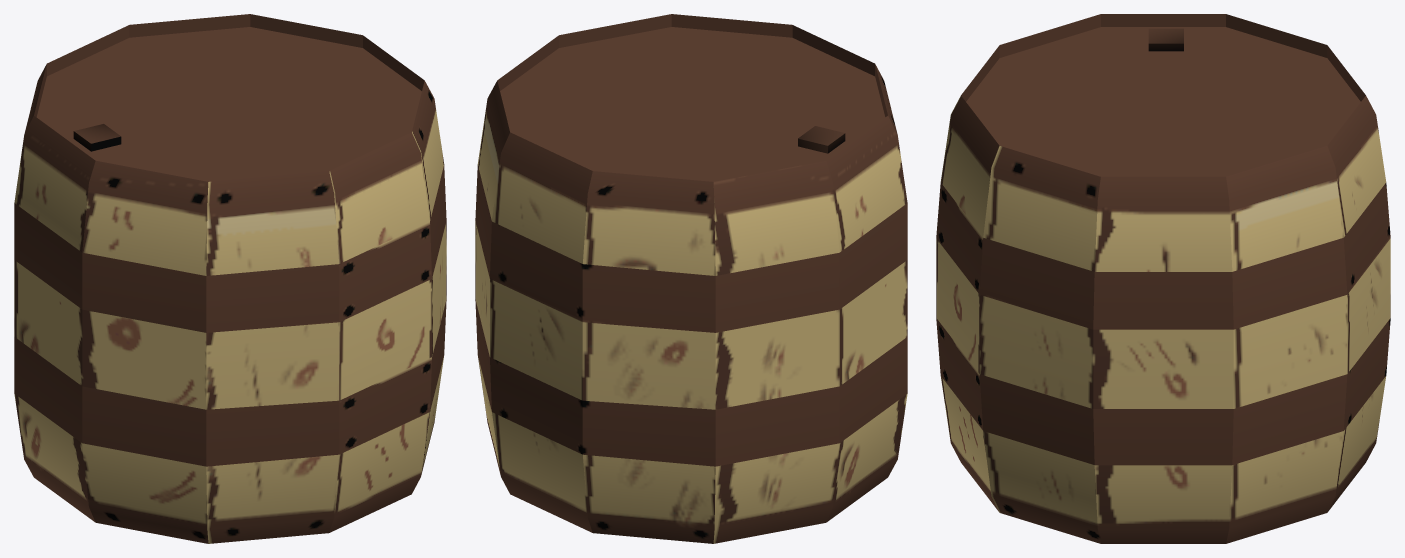
Rendered from Bocka2.fbx.
3 renders of one model, left to right at view 1: azimuth 30°, elevation 25°; view 2: azimuth 150°, elevation 25°; view 3: azimuth 270°, elevation 25°, orthographic.
Parts seen in each view (by area): view 1: Цилиндр.001; view 2: Цилиндр.001; view 3: Цилиндр.001.
Part boxes in pixels (left/top/right/bottom): Цилиндр.001: left=14, top=14, right=446, bottom=543; Цилиндр.001: left=475, top=14, right=907, bottom=543; Цилиндр.001: left=936, top=14, right=1390, bottom=543.
Bounding box in the file's own units: 210 × 224 × 200.
